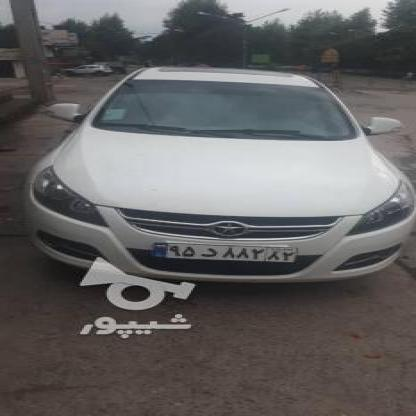licence: (154, 243, 298, 262)
